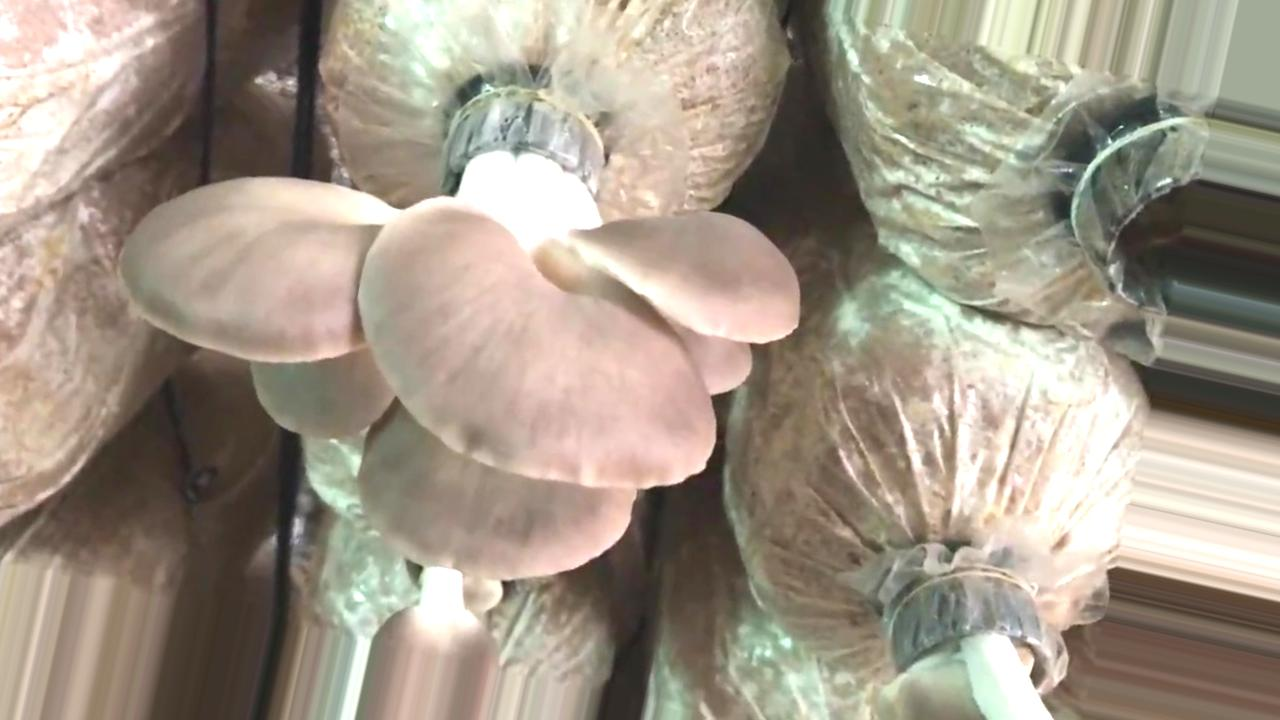nam: (115, 95, 794, 575), (879, 573, 1058, 720), (358, 567, 506, 720)
